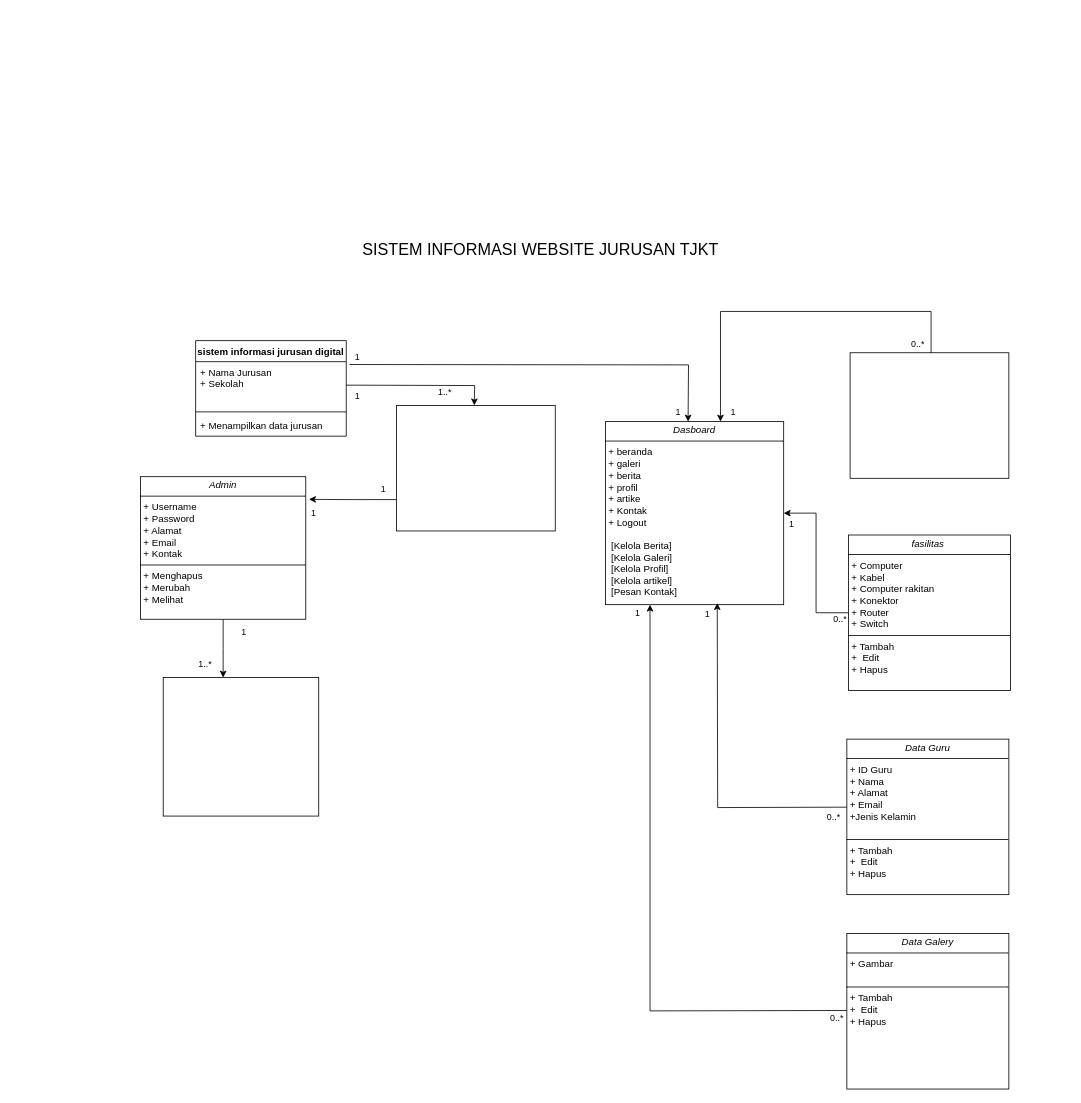
Image size: 1081x1103. Some labels were removed from this diagram. The centre of each missing label's shape, as x and y in pixels:
Data Berita + Judul + Isi + Gamabar + Edit + Tambah + Hapus: point (929, 415)
Login + Username + Password + Sekolah login() + EnskripsiPassword(): point (475, 468)
User + Username + password + Alamat + Email + Dihapus + Dilihat + Dirubah: point (240, 746)
